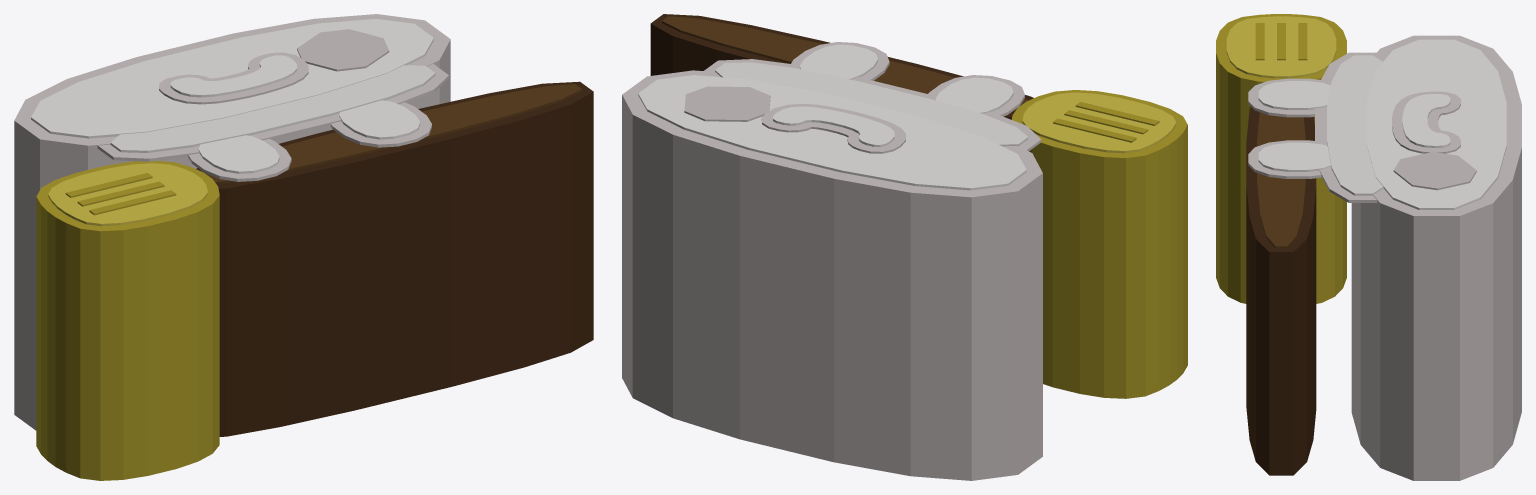
File: bag_explorador_pa.fbx
3 views of the same model, side by side, from view 1: azimuth 30°, elevation 25°; view 2: azimuth 150°, elevation 25°; view 3: azimuth 270°, elevation 25° (orthographic). The views are drawn at different scales.
Visible parts, largest first — view 1: bag_explorador_pa_mochila; view 2: bag_explorador_pa_mochila; view 3: bag_explorador_pa_mochila.
Part boxes in pixels (x1,y1,x2,y2): bag_explorador_pa_mochila: (14,14,593,480); bag_explorador_pa_mochila: (622,14,1187,480); bag_explorador_pa_mochila: (1216,14,1521,480).
Size of the model in its own units: 3.66 by 1.96 by 2.01.
Materials: 1 (1 with a texture image).
